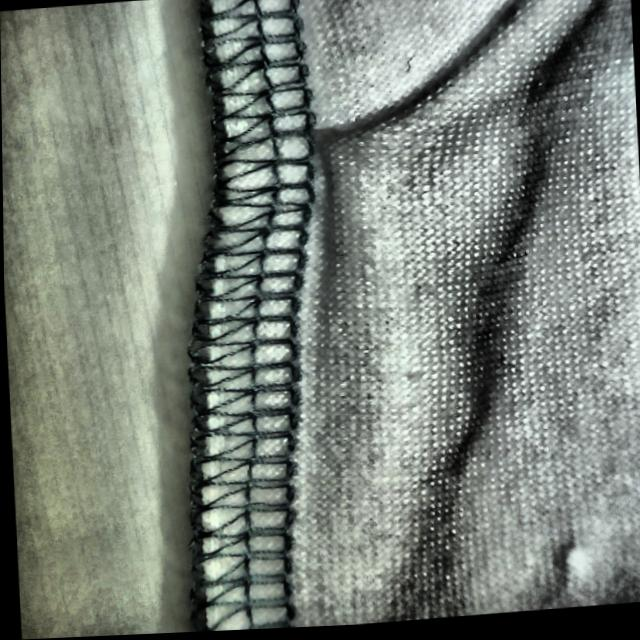seam: (147, 55, 463, 279)
